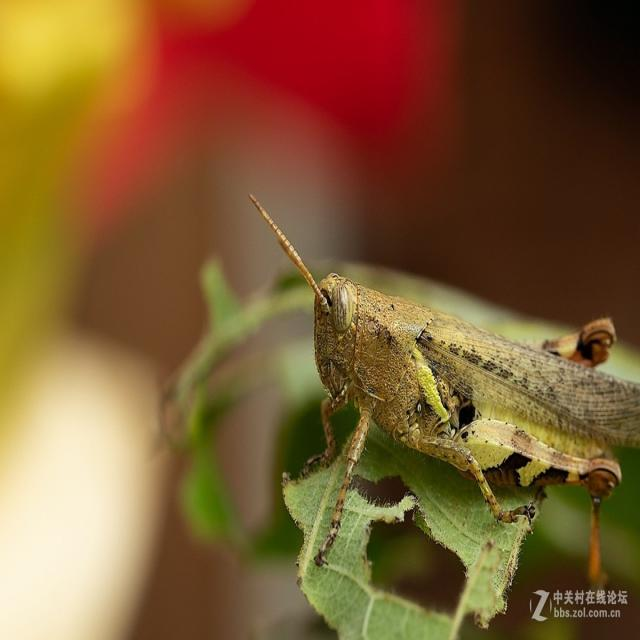ZhaMeng: (260, 200, 625, 521)
